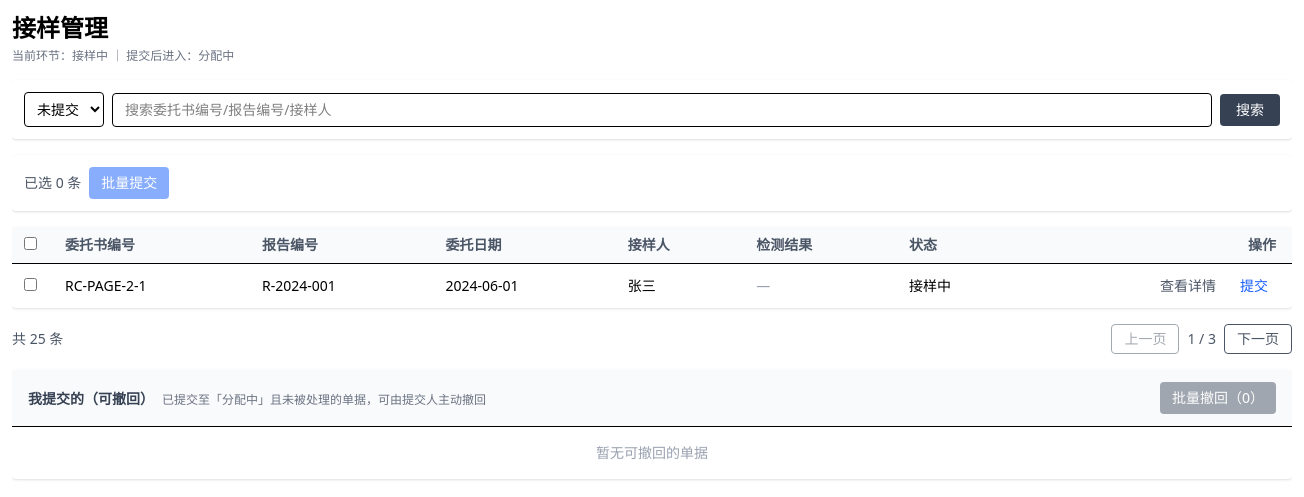
Scenario: 分页 › 点击下一页翻到第 2 页
Expected: the text "1 / 3" is shown, [1188,329,1216,348]
Click the button "下一页". click: (1258, 339)
box: [1224,324,1292,354]
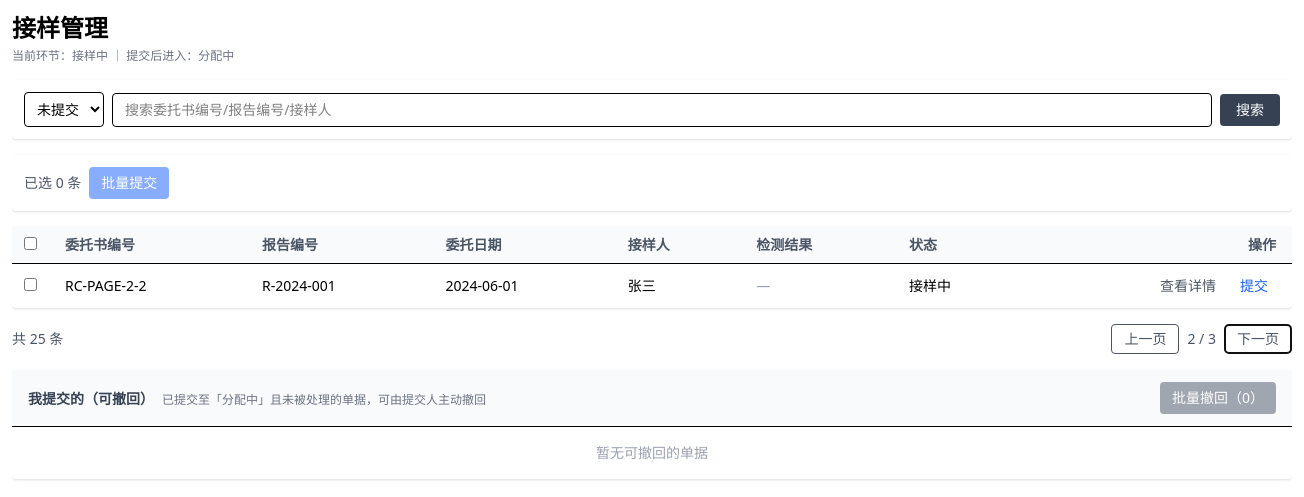
Expected: the text "2 / 3" is shown, [1188,329,1216,348]
